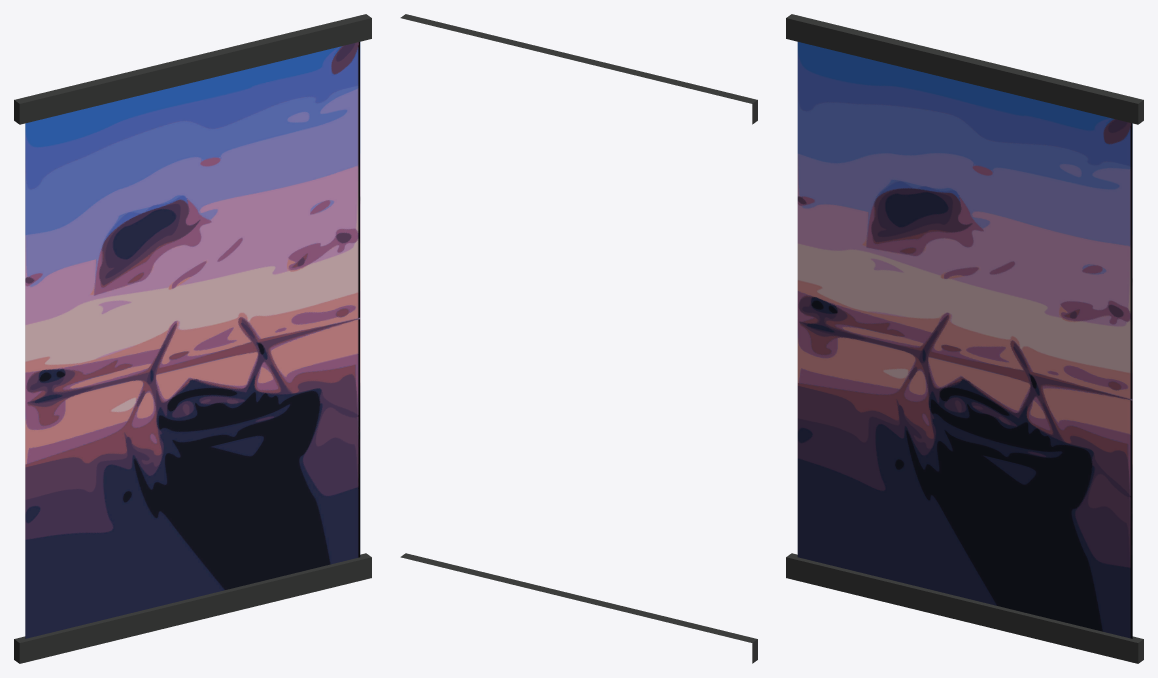
File: WaltoneBoat.glb
3 renders of one model, left to right at view 1: azimuth 30°, elevation 25°; view 2: azimuth 150°, elevation 25°; view 3: azimuth 330°, elevation 25°, orthographic.
Visible parts, largest first — view 1: Cube, Cube.001; view 2: Cube.001; view 3: Cube, Cube.001.
Boxes of the visible parts, <box> form: Cube: <box>25,42,360,638</box>; Cube.001: <box>14,14,371,663</box>; Cube.001: <box>400,14,757,663</box>; Cube: <box>797,42,1132,638</box>; Cube.001: <box>786,14,1143,663</box>.
Size of the model in its own units: 1.07 by 1.63 by 0.0294.
Materials: 2 (2 with a texture image).
